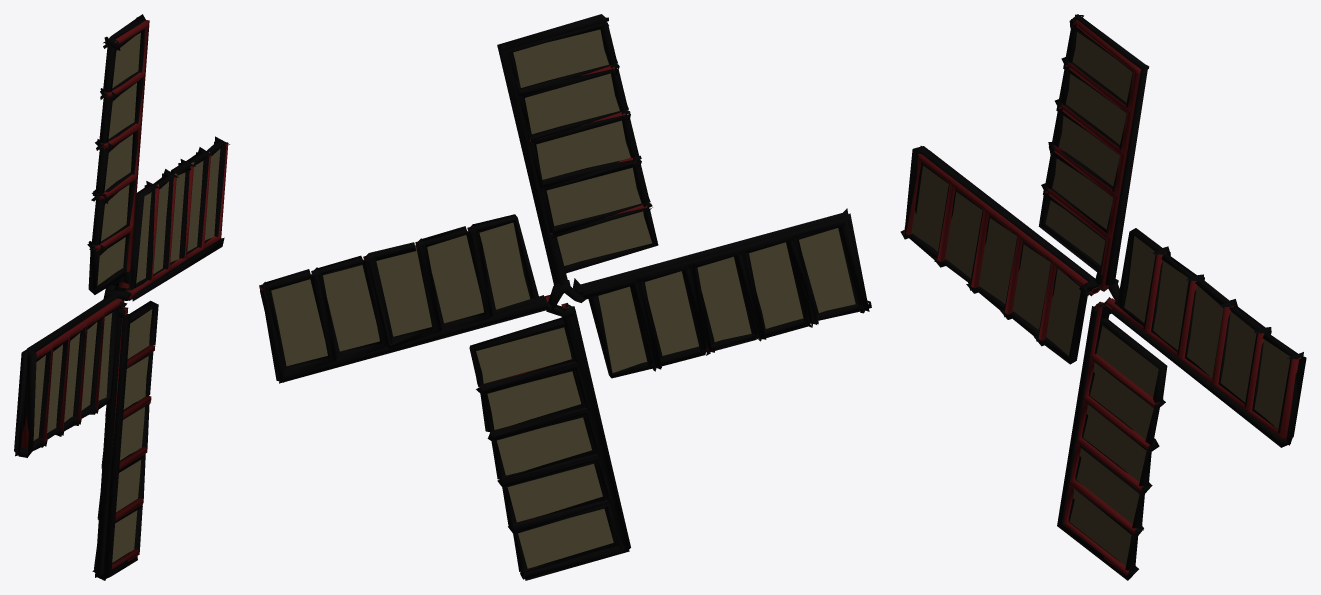
Rendered from Molen.fbx.
The picture shows the model from 3 angles, left to right: view 1: azimuth 30°, elevation 25°; view 2: azimuth 150°, elevation 25°; view 3: azimuth 270°, elevation 25°; orthographic projection. The views are drawn at different scales.
Parts seen in each view (by area): view 1: Cube.012; view 2: Cube.012; view 3: Cube.012.
Part boxes in pixels (box(x1,y1,x2,y2)): Cube.012: box(14, 14, 229, 580); Cube.012: box(259, 14, 871, 580); Cube.012: box(900, 14, 1306, 580).
Bounding box in the file's own units: 146 × 189 × 128.
